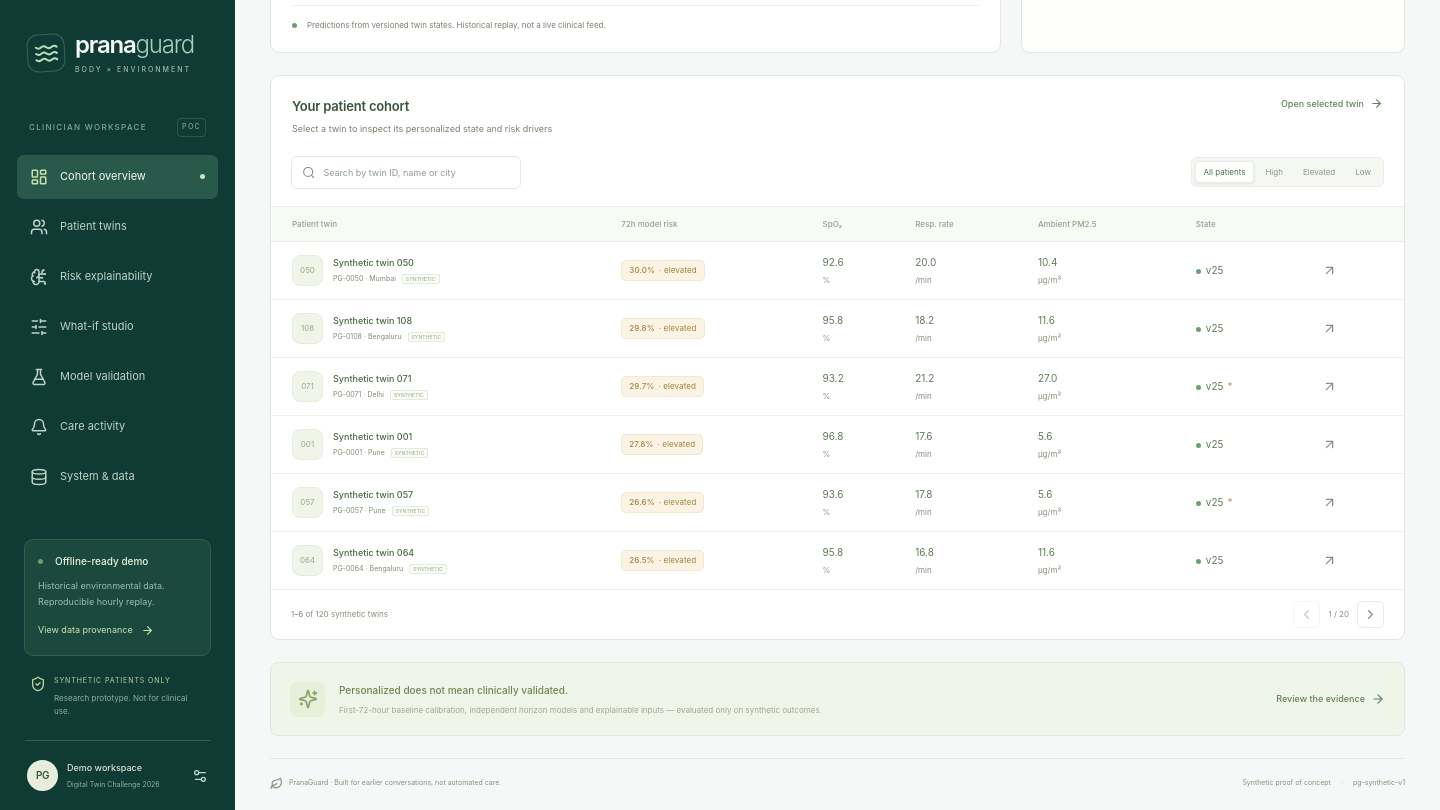
backend-fed dashboard › paginates the complete backend cohort
(page scrolled)
Expected: the heading "Your patient cohort" is shown, x1=292 y1=98 x2=409 y2=114
Click the button named "Next page" at (1370, 614), box x1=1357 y1=601 x2=1384 y2=628
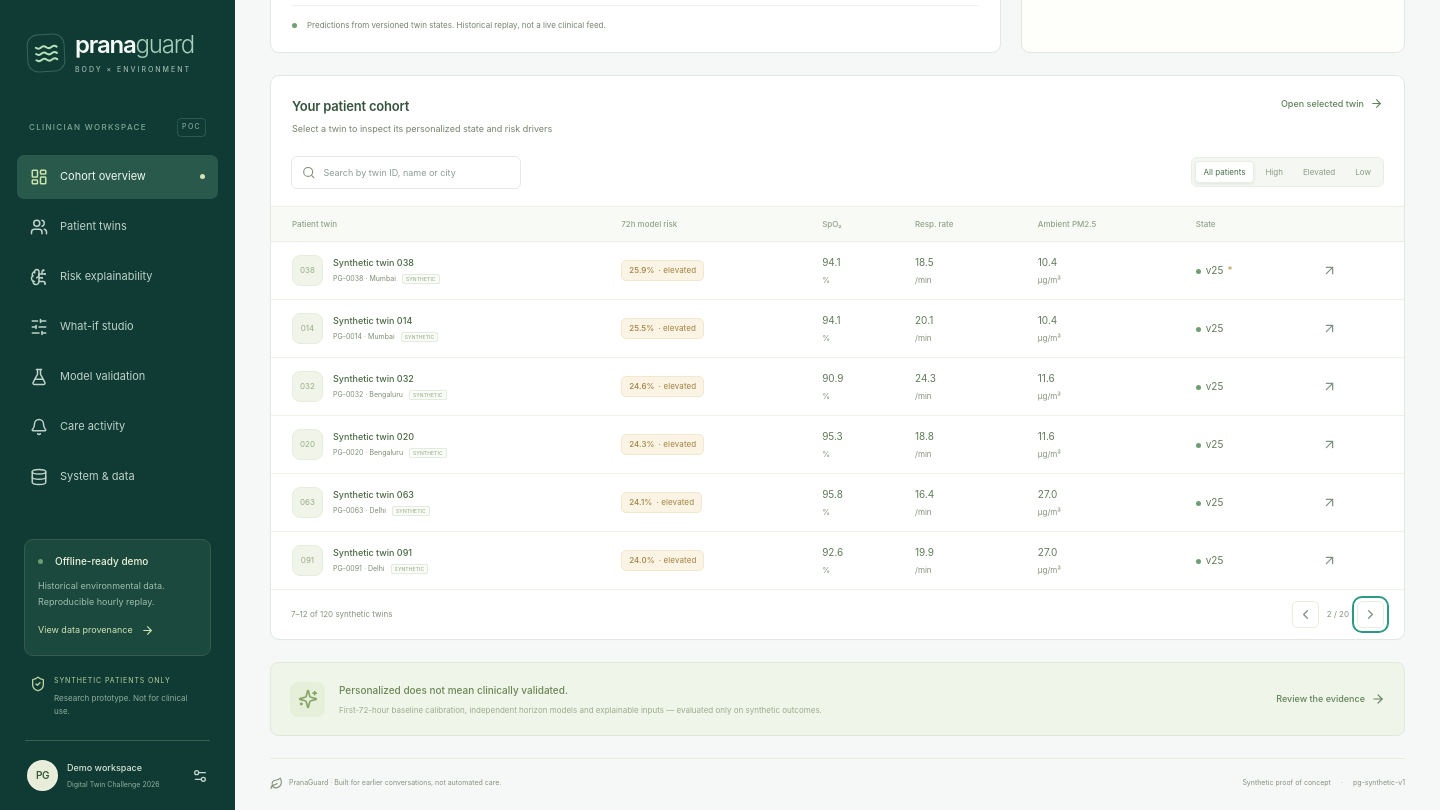
Expected: the text "7–12 of 120 synthetic twins" is shown, x1=291 y1=608 x2=392 y2=620
Click the button named "Previous page" at (1305, 614), box x1=1292 y1=601 x2=1319 y2=628
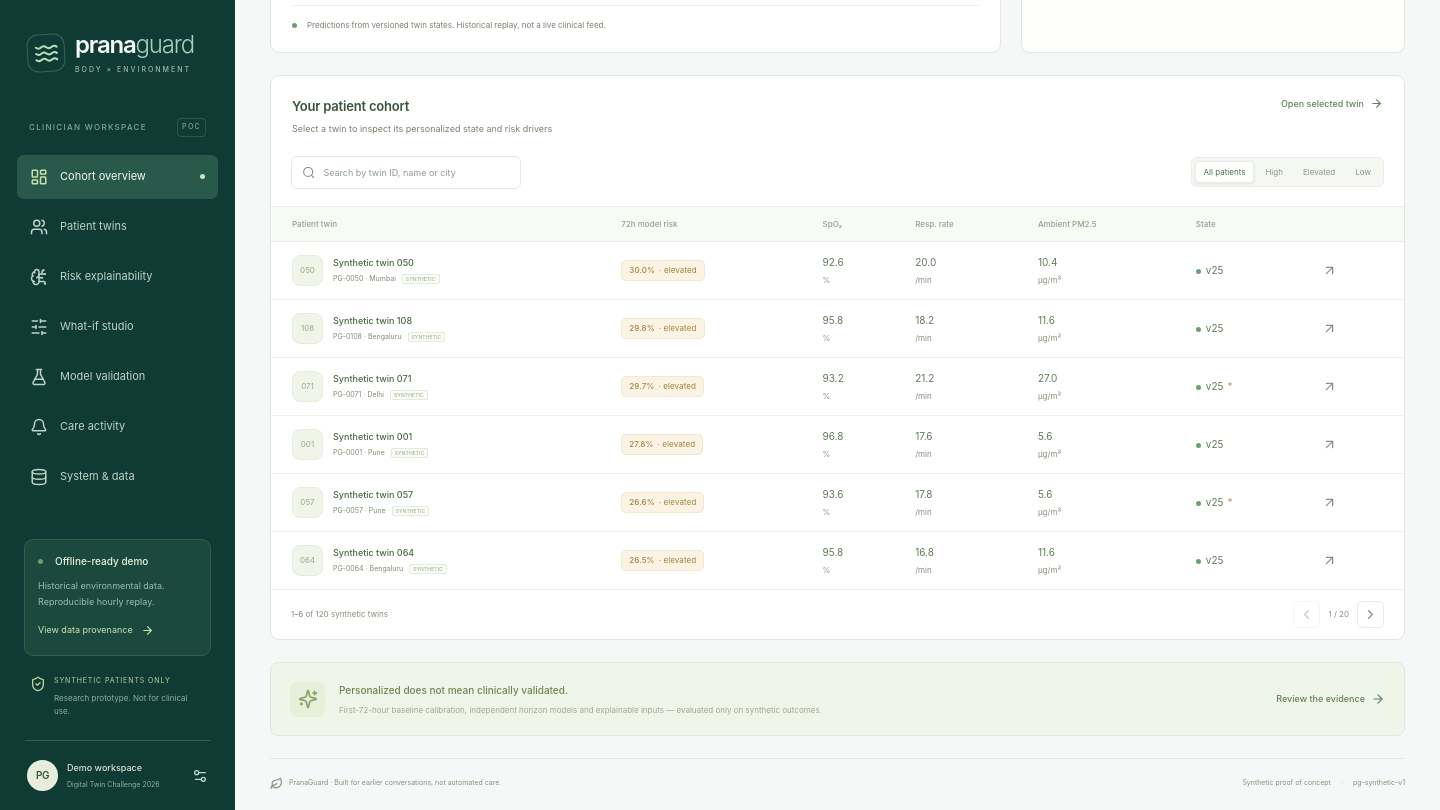
Expected: the text "1–6 of 120 synthetic twins" is shown, x1=291 y1=608 x2=388 y2=620
